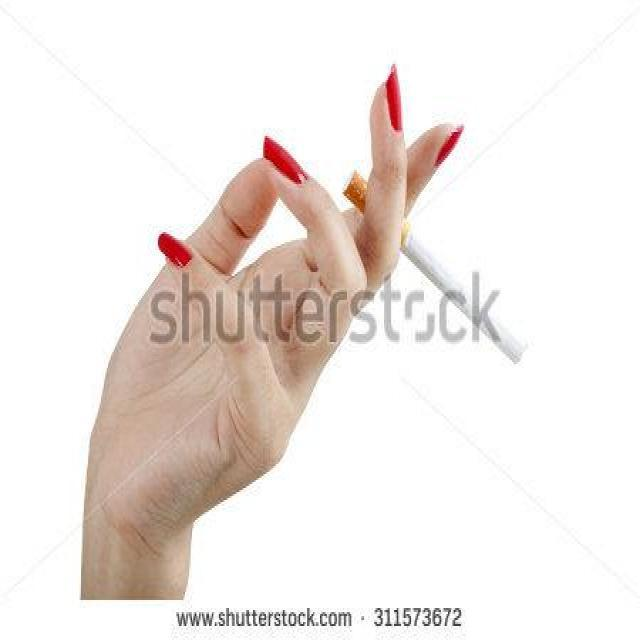cigarette: (398, 228, 532, 372)
